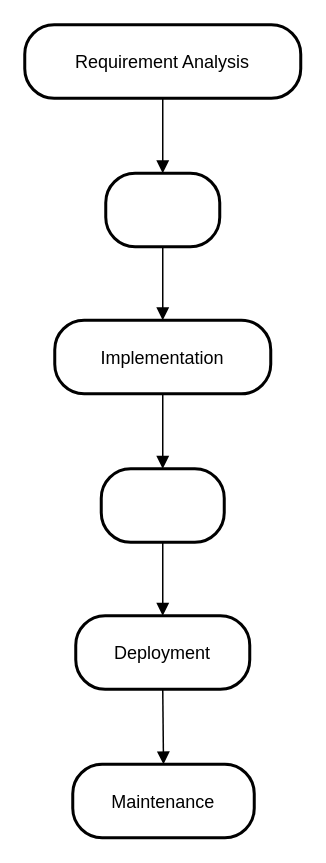
Some shapes in this 326 by 863 pixel diagram are drawn without their labels. Each missing label, with the box of its shape:
Design: (104, 171, 220, 248)
Testing: (99, 466, 225, 543)
